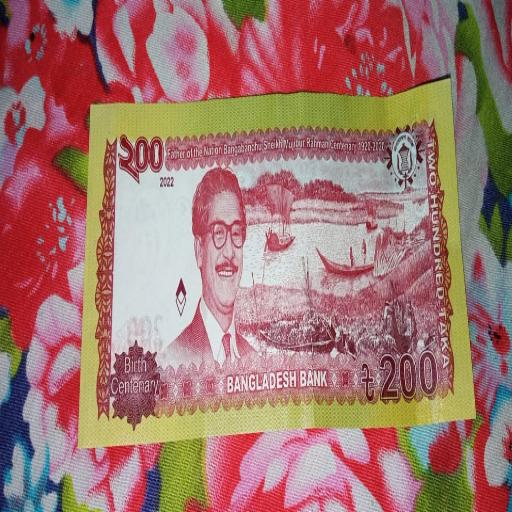200taka: (77, 79, 474, 447)
